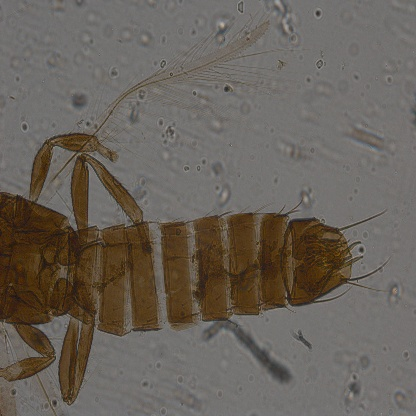Thrips: (0, 126, 361, 344)
